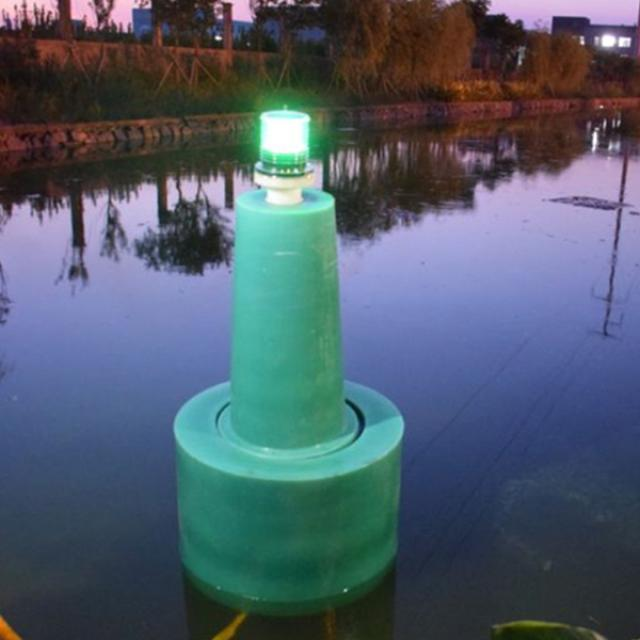buoy: (168, 100, 422, 602)
